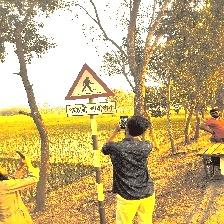Pedestrian-crossing: (64, 64, 116, 117)
